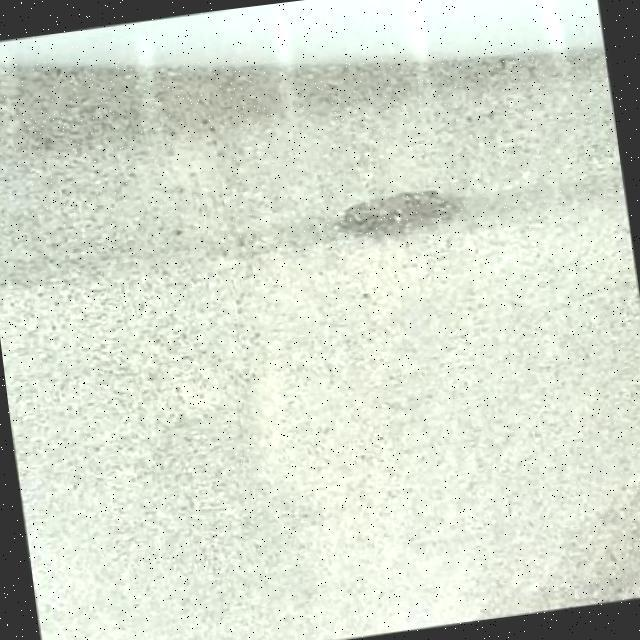Pothole: (334, 186, 457, 234)
